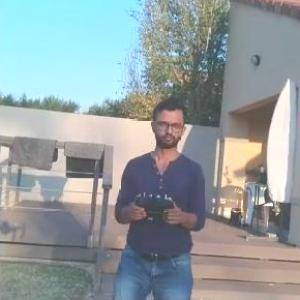follow: (108, 90, 210, 299)
